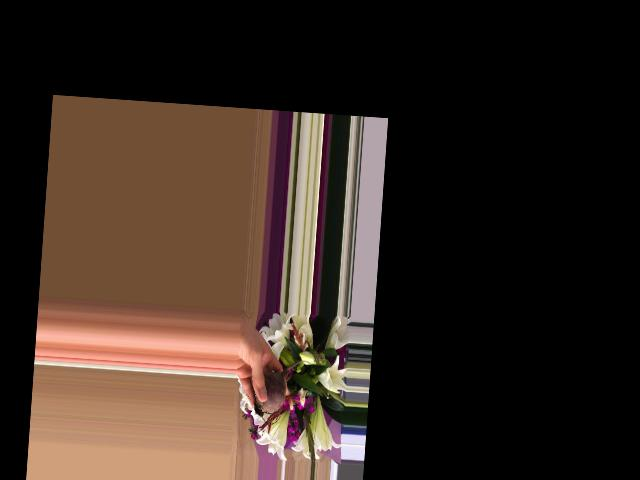beet: (252, 357, 310, 427)
